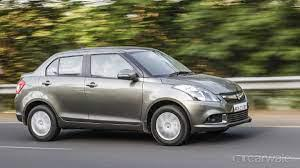Hatchback: (14, 46, 253, 145)
